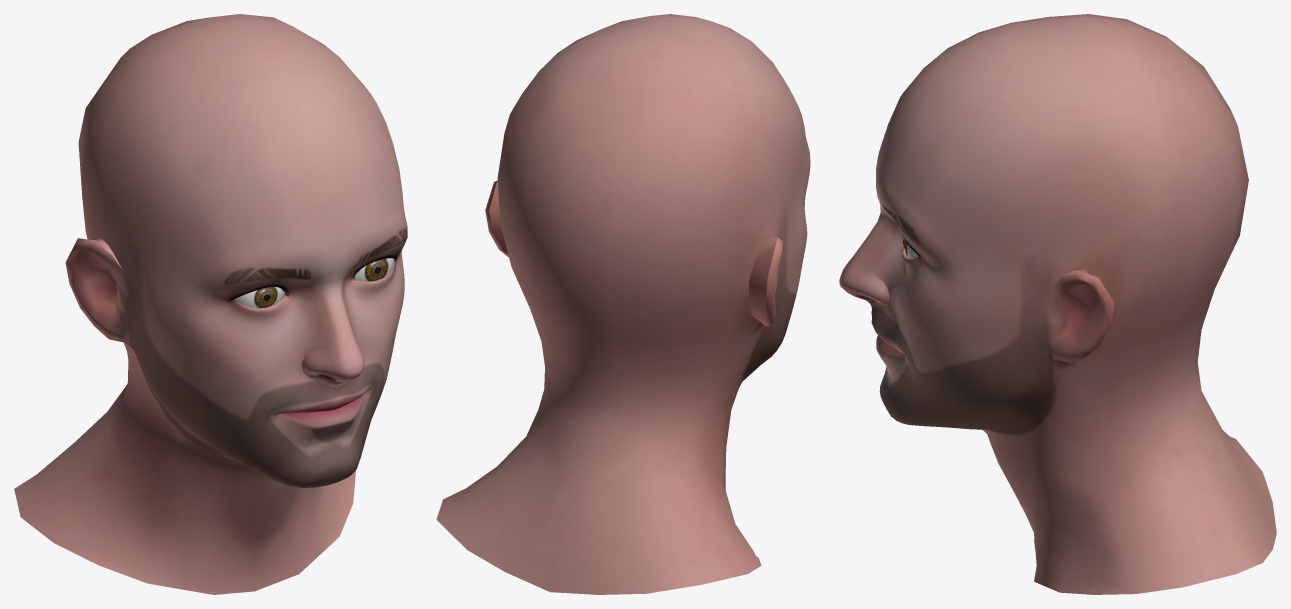
The model's file is head.fbx.
3 views of the same model, side by side, from view 1: azimuth 30°, elevation 25°; view 2: azimuth 150°, elevation 25°; view 3: azimuth 270°, elevation 25° (orthographic). The views are drawn at different scales.
Parts seen in each view (by area): view 1: head; view 2: head; view 3: head.
Boxes of the visible parts, x1,y1,x2,y2 form: head: [14, 14, 407, 594]; head: [436, 14, 810, 594]; head: [839, 14, 1276, 594].
Size of the model in its own units: 12.07 by 19.65 by 14.41.
